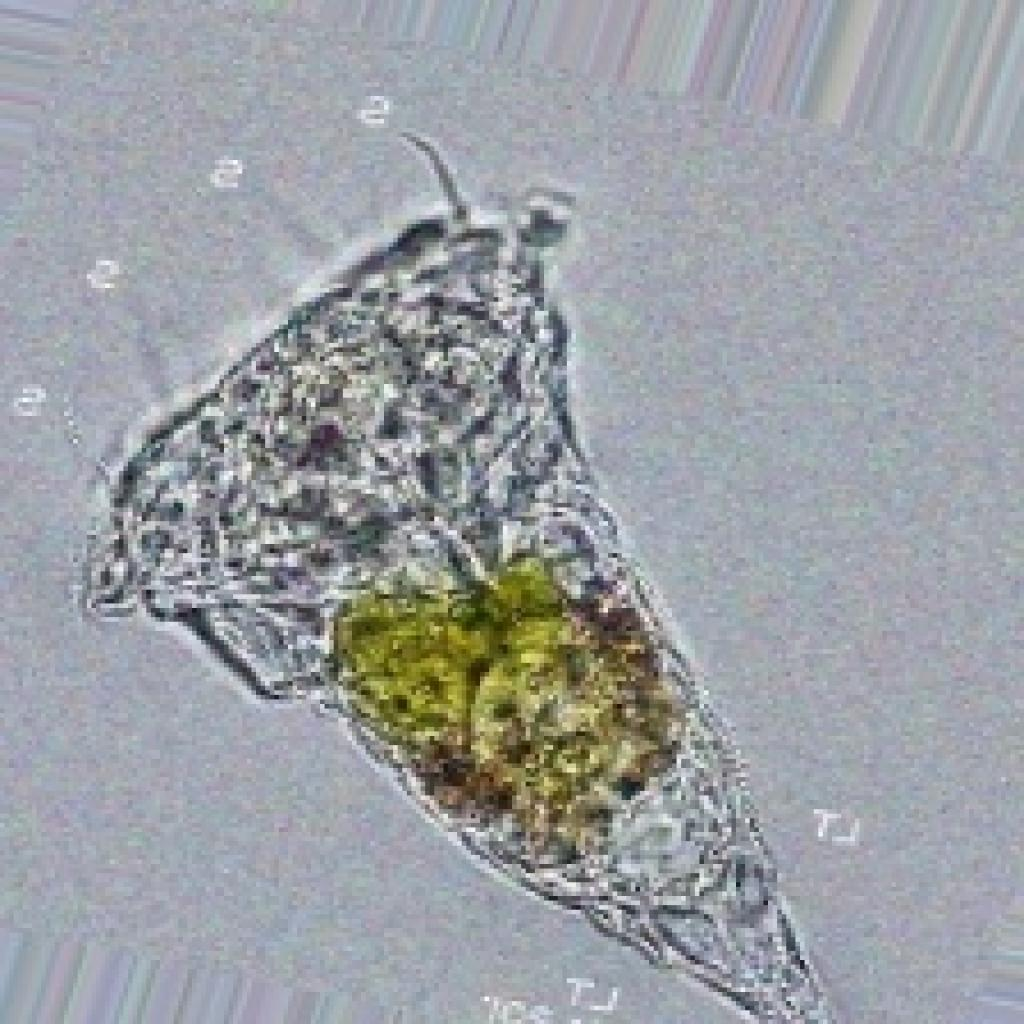Rotifer: (73, 124, 860, 1020)
